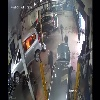fire: (22, 32, 38, 51)
